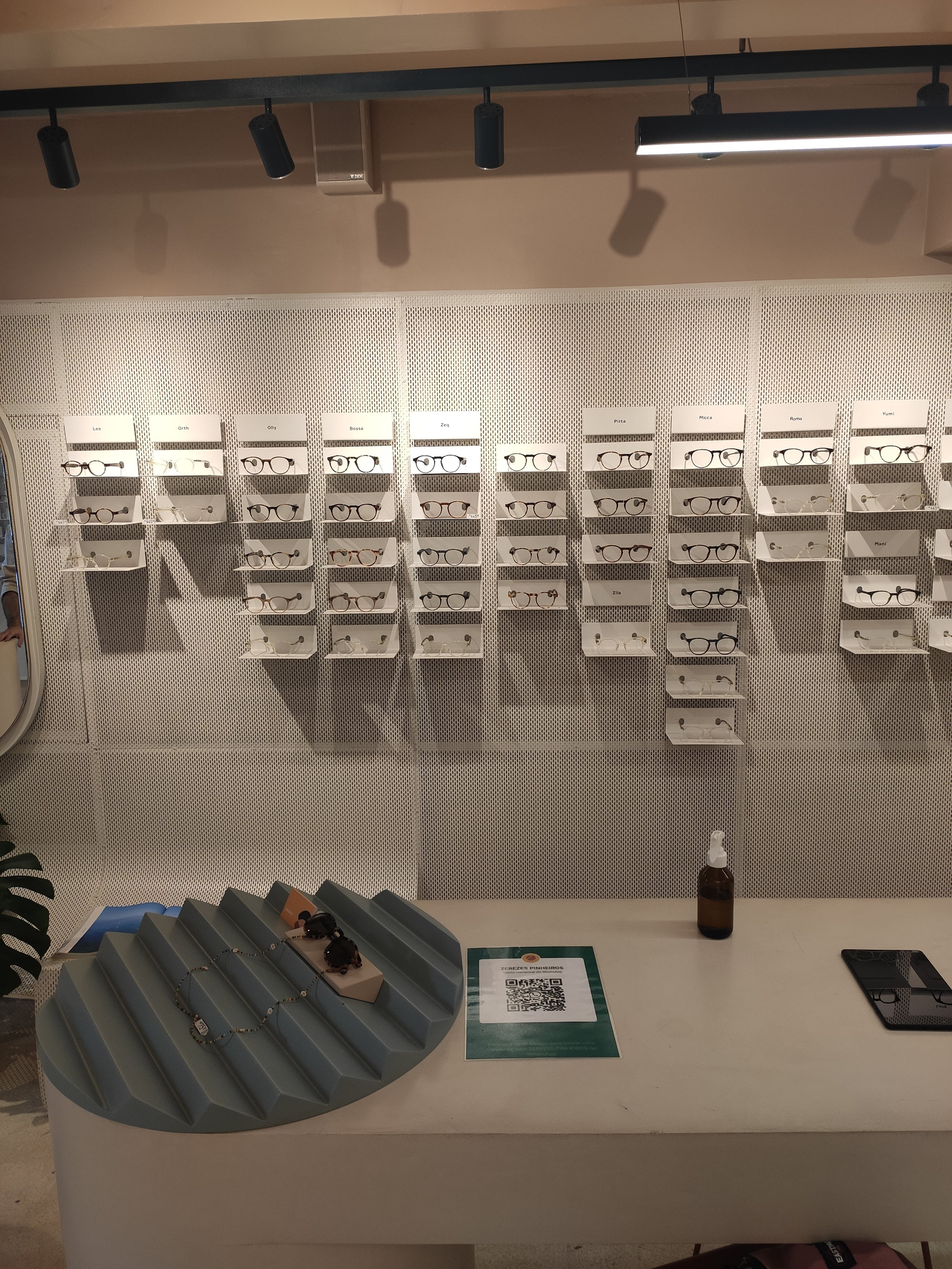QR-CODE: (506, 979, 567, 1011)
